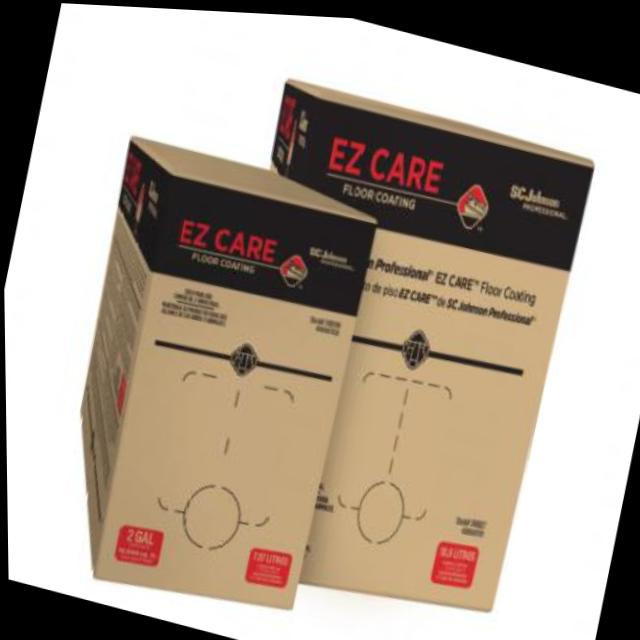box: (179, 58, 602, 633), (18, 106, 422, 640)
